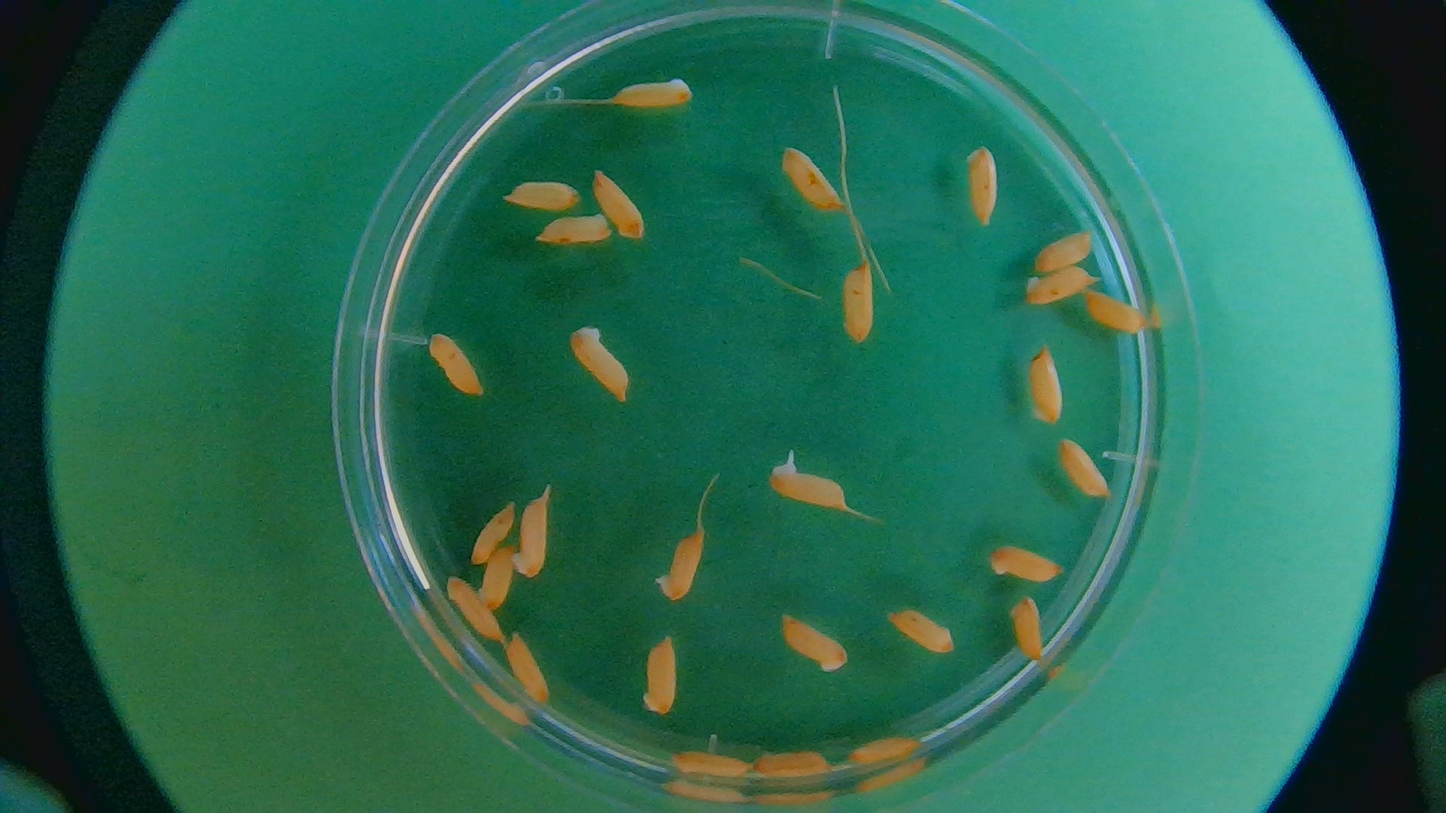no: (779, 137, 845, 218), (568, 324, 631, 407), (426, 325, 486, 405), (1005, 594, 1059, 682), (444, 571, 506, 644), (1053, 433, 1112, 506), (781, 614, 850, 676), (592, 160, 644, 242), (654, 517, 701, 605), (959, 134, 1003, 224), (987, 534, 1061, 586), (631, 633, 676, 717), (499, 631, 549, 706), (1082, 282, 1146, 340), (609, 75, 695, 117), (513, 490, 552, 582), (467, 492, 514, 567), (884, 604, 953, 655), (676, 738, 749, 784), (536, 209, 615, 251), (1020, 263, 1095, 307), (495, 177, 581, 215), (757, 747, 832, 787), (844, 263, 880, 346), (1027, 346, 1066, 422), (1033, 231, 1100, 273), (473, 547, 516, 611), (847, 735, 923, 769)
yes: (768, 464, 846, 510)
